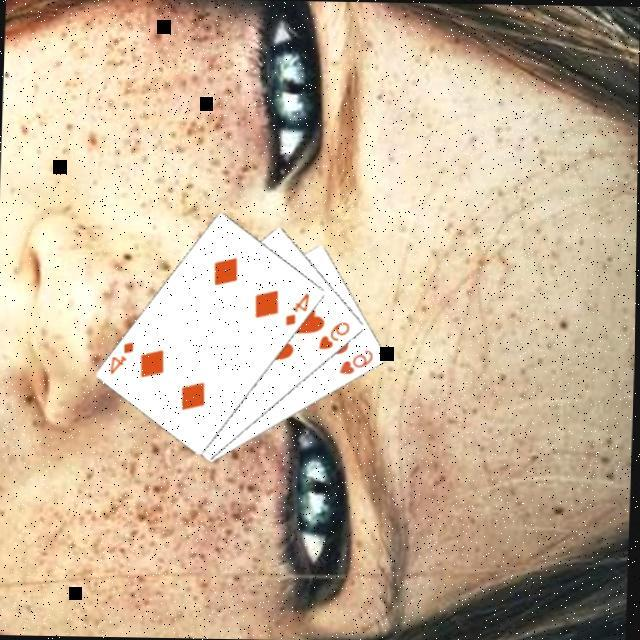4D: (284, 289, 315, 329), (109, 338, 139, 378)
6H: (338, 347, 379, 379)
9H: (318, 319, 355, 354)
